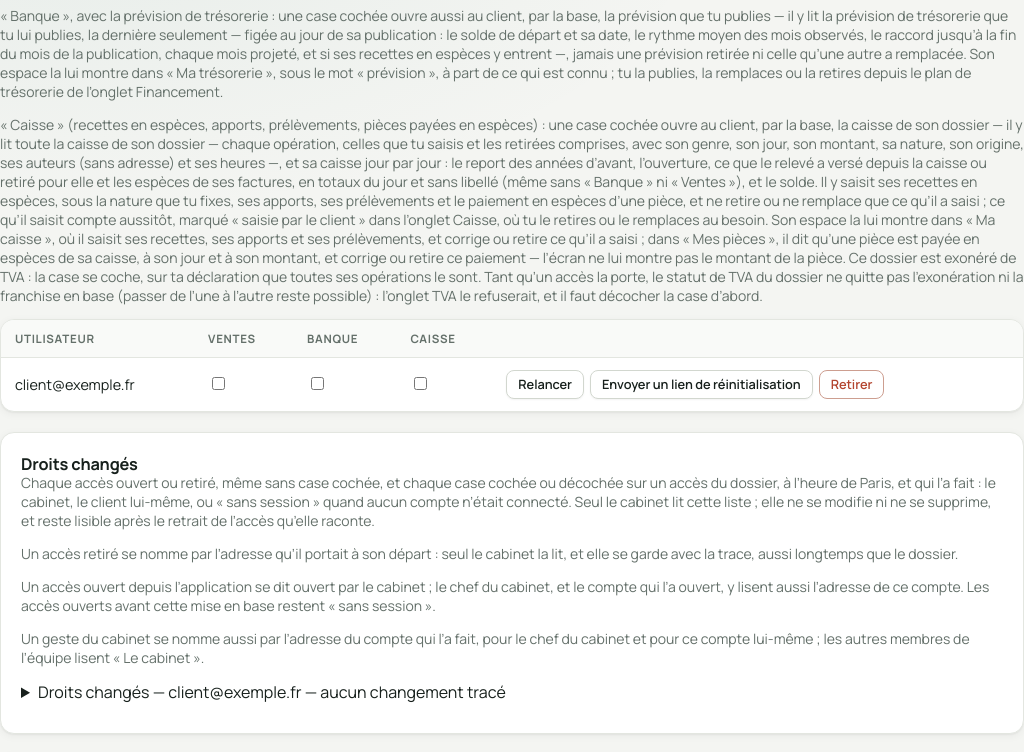
Test: « Aucun accès » ne se dit qu’une fois la liste revenue › une lecture plus lente qu’une suivante ne réécrit pas la liste après elle
(page scrolled)
Expected: the text "client@exemple.fr" is shown, top-left (1, 357), bottom-right (194, 411)
Click the button "Retirer" at point(852, 384), box top-left (819, 370), bottom-right (884, 399)
(page scrolled)
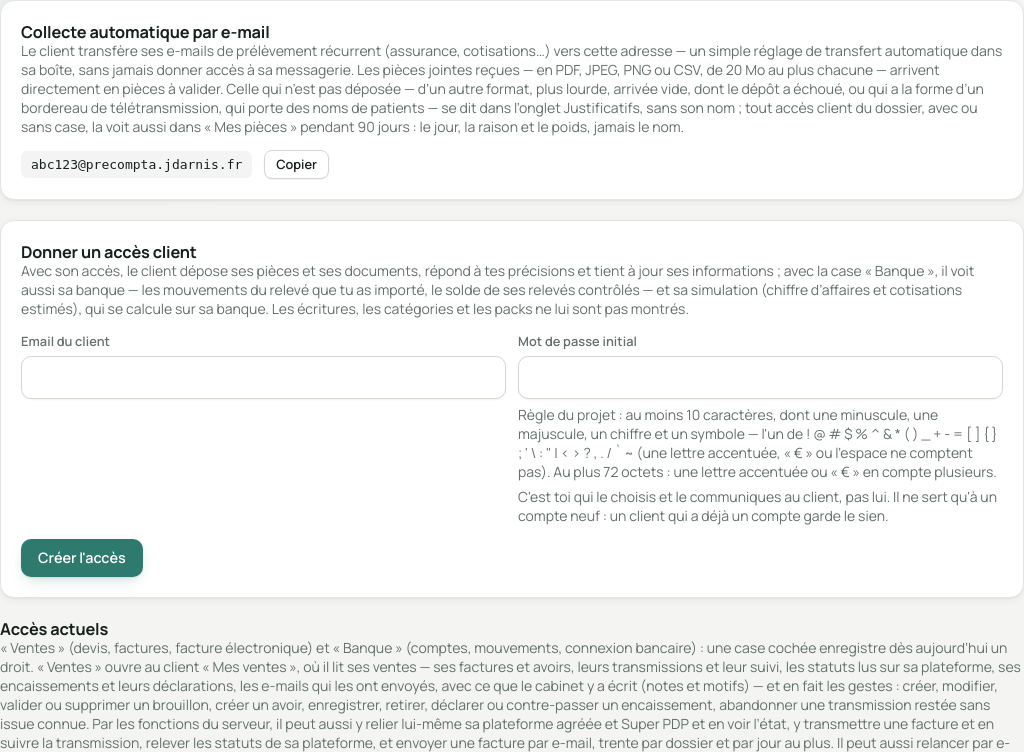
Type "nouveau@exemple.fr" into the field labelled "Email du client" at point(264, 378), box top-left (21, 356), bottom-right (506, 399)
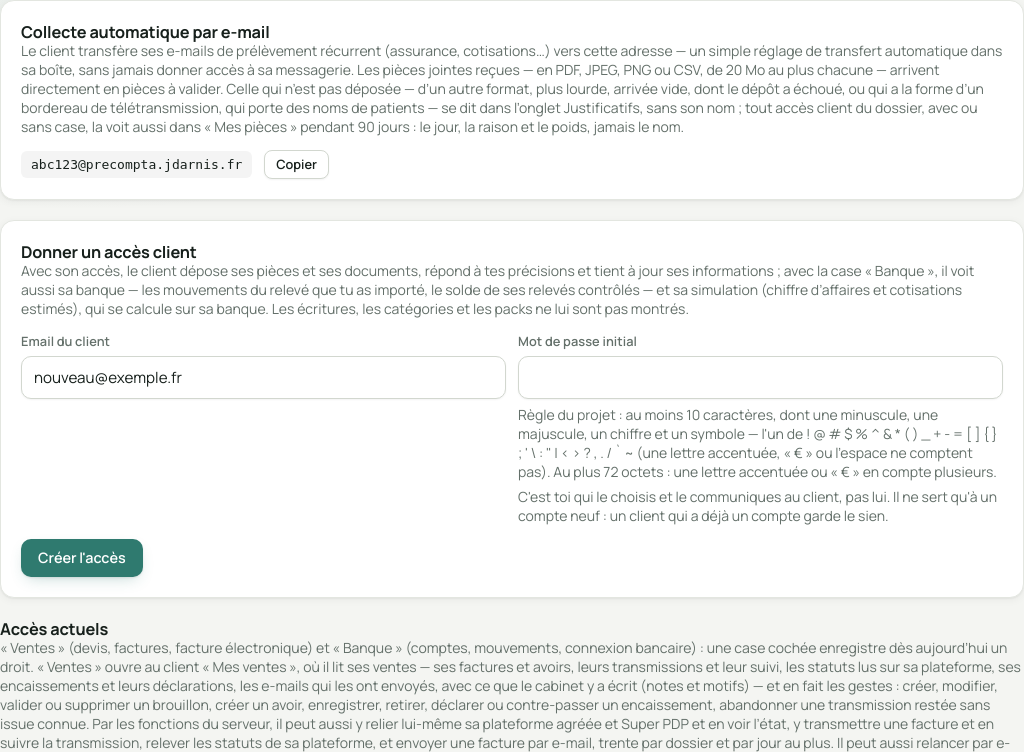
Type "Mot-de-passe-1" into the password field labelled "Mot de passe initial" at point(760, 378), box top-left (518, 356), bottom-right (1003, 399)
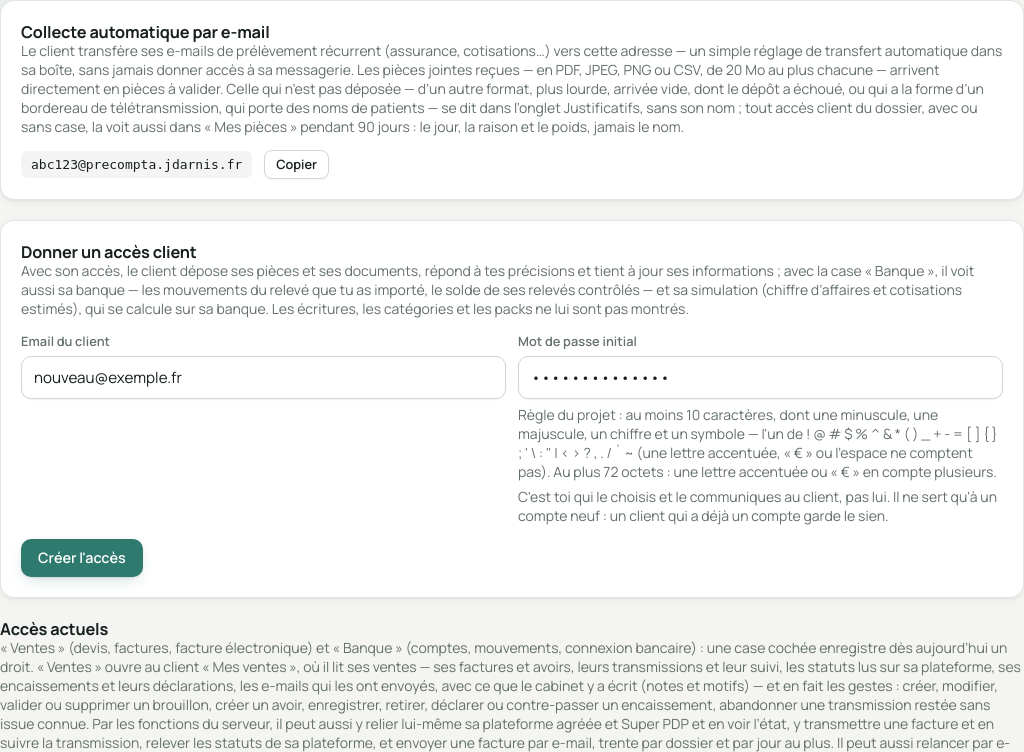
Click the button "Créer l'accès" at point(82, 558), box top-left (21, 539), bottom-right (143, 577)
(page scrolled)
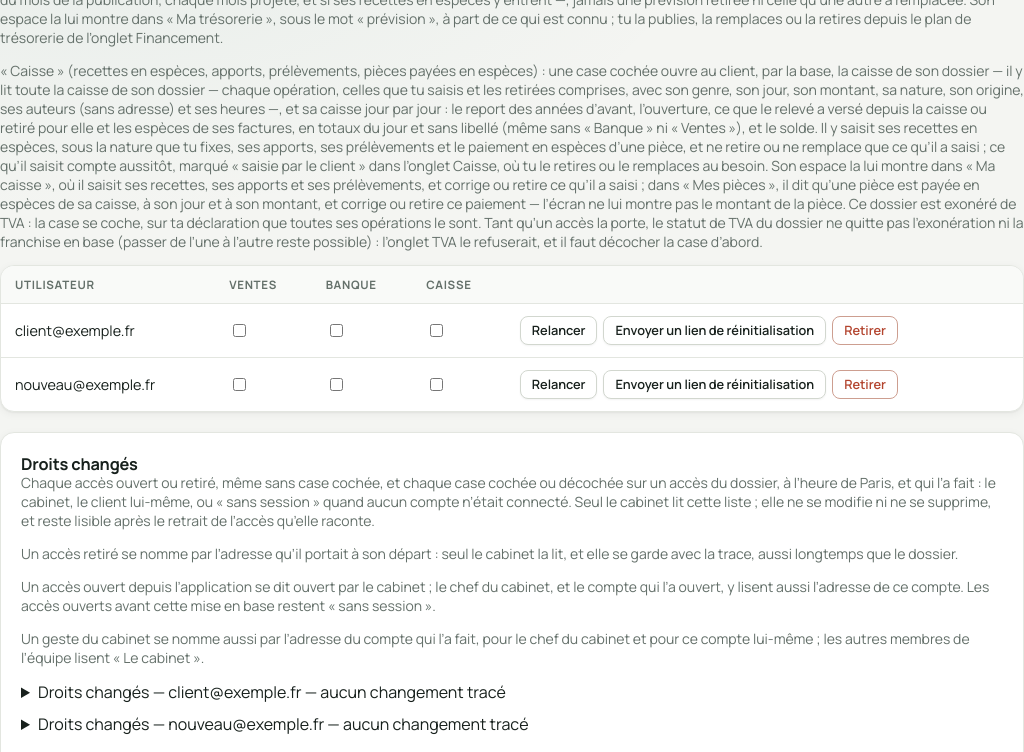
Result: the text "nouveau@exemple.fr" is shown at top-left (1, 358), bottom-right (215, 411)
